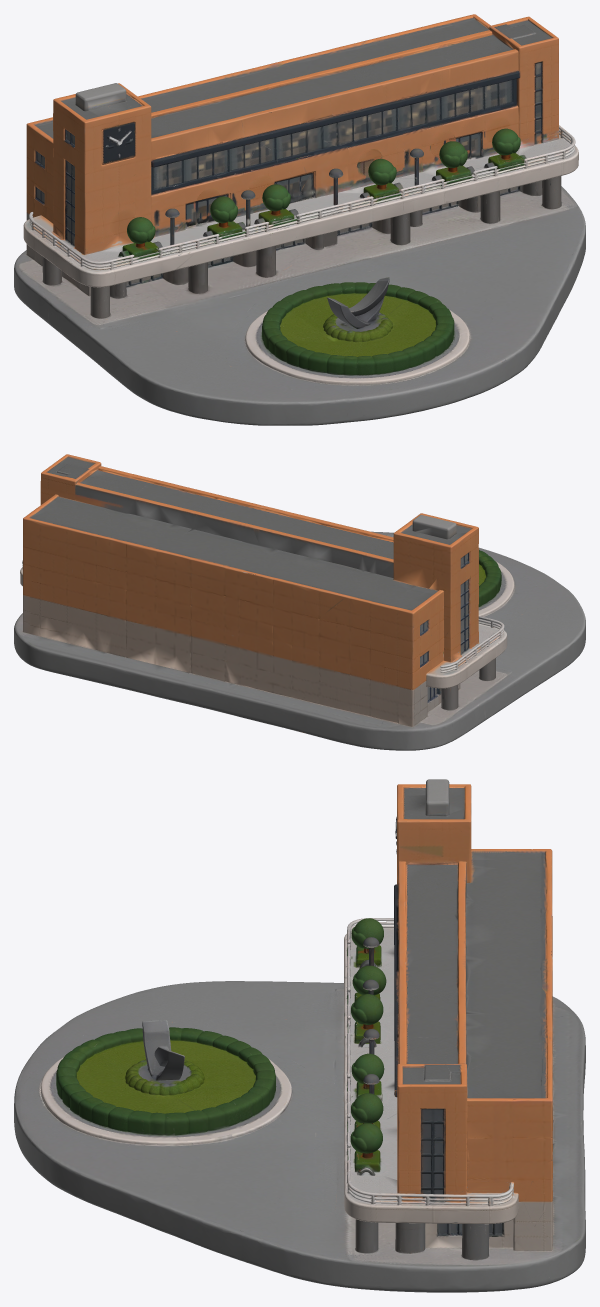
Rendered from 仙台駅_ジオラマ.glb.
3 renders of one model, top to bottom at view 1: azimuth 30°, elevation 25°; view 2: azimuth 150°, elevation 25°; view 3: azimuth 270°, elevation 25°, orthographic. The views are drawn at different scales.
Bounding box in the file's own units: 1.9 × 0.7813 × 1.6.
Materials: 1 (1 with a texture image).
